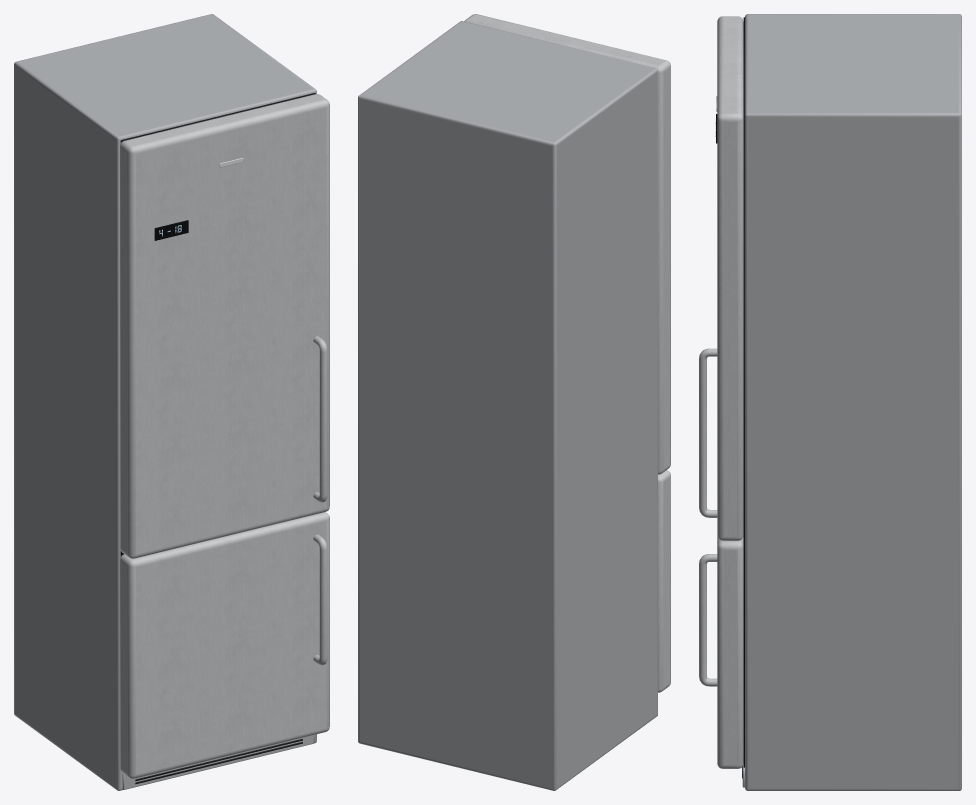
File: frigorifico_combi_inox_186.glb
3 renders of one model, left to right at view 1: azimuth 30°, elevation 25°; view 2: azimuth 150°, elevation 25°; view 3: azimuth 270°, elevation 25°, orthographic. The views are drawn at different scales.
Parts seen in each view (by area): view 1: frigorifico_combi_inox_186; view 2: frigorifico_combi_inox_186; view 3: frigorifico_combi_inox_186.
Part boxes in pixels (x1=…): frigorifico_combi_inox_186: x1=14, y1=14, x2=329, y2=790; frigorifico_combi_inox_186: x1=358, y1=14, x2=670, y2=790; frigorifico_combi_inox_186: x1=699, y1=14, x2=961, y2=790.
Size of the model in its own units: 0.5949 by 1.86 by 0.6499.
Materials: 6 (1 with a texture image).
